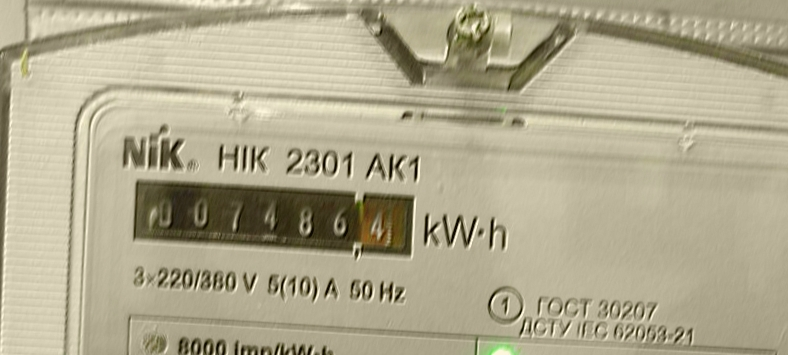0: (152, 195, 174, 230), (190, 195, 209, 229)
4: (258, 196, 278, 232), (366, 207, 385, 242)
6: (329, 205, 350, 238)
7: (221, 198, 246, 232)
8: (295, 204, 314, 240)
screen: (121, 168, 423, 269)
